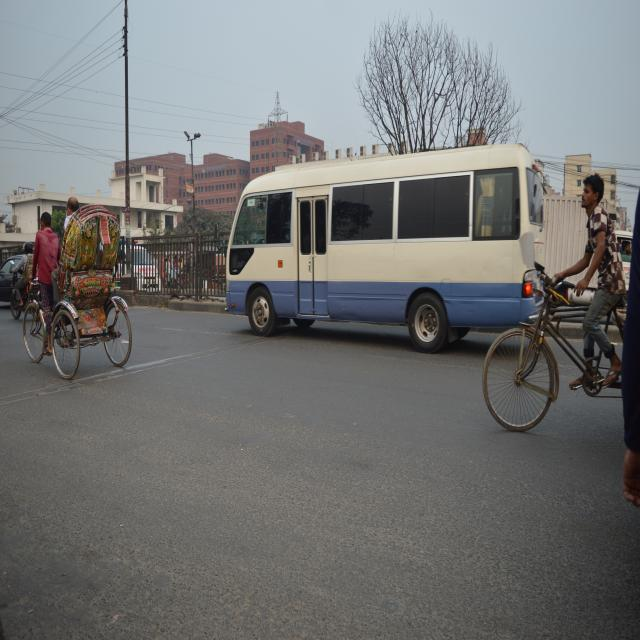bus: (218, 133, 544, 367)
